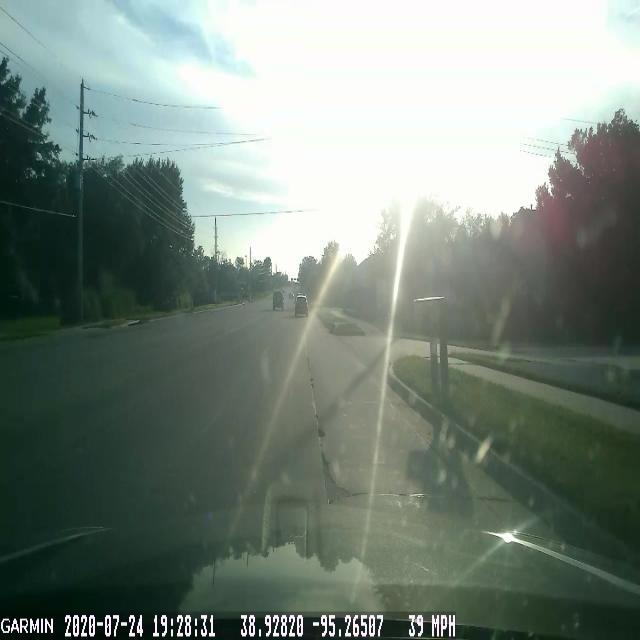pothole: (318, 453, 374, 507)
